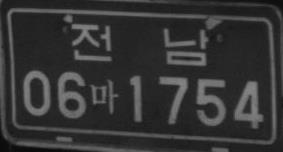0: (21, 69, 52, 118)
1: (123, 74, 152, 123)
4: (232, 80, 265, 129)
5: (194, 77, 228, 127)
6: (56, 71, 87, 119)
7: (157, 74, 190, 125)
마: (89, 78, 119, 115)
전남_D: (70, 22, 209, 68)
